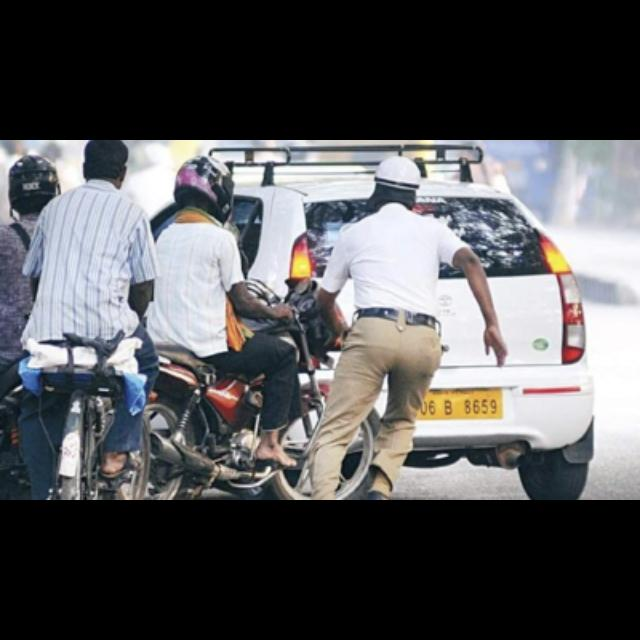With Helmet: (170, 151, 238, 223)
